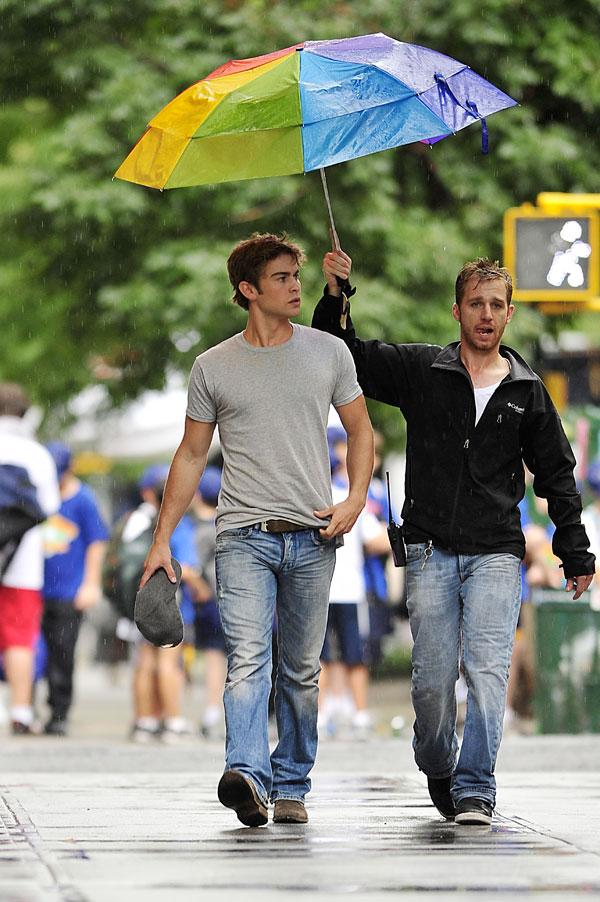person: (312, 252, 593, 827)
